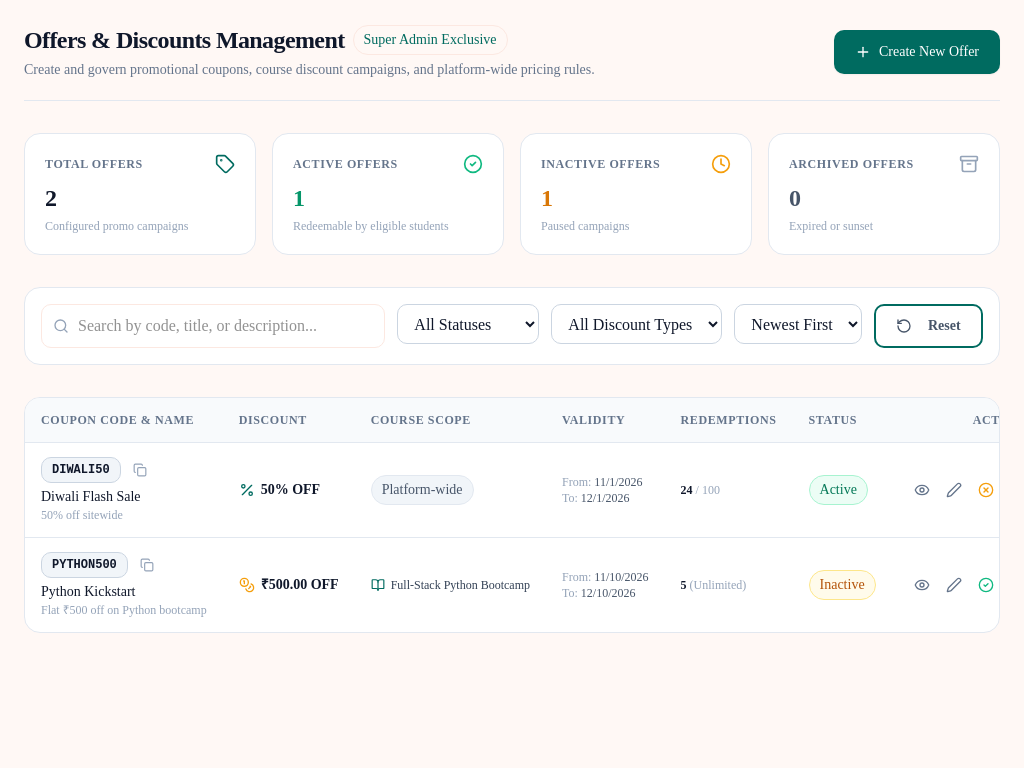
Test: Offers & Discounts Governance Page (SA-05.1) › opens edit modal on clicking edit action button
The image size is (1024, 768).
Check: the text "DIWALI50" is shown, box [41, 457, 121, 483]
Click the button titled "Edit Offer" in the row of "Diwali Flash Sale" at (954, 490), box [940, 476, 968, 504]
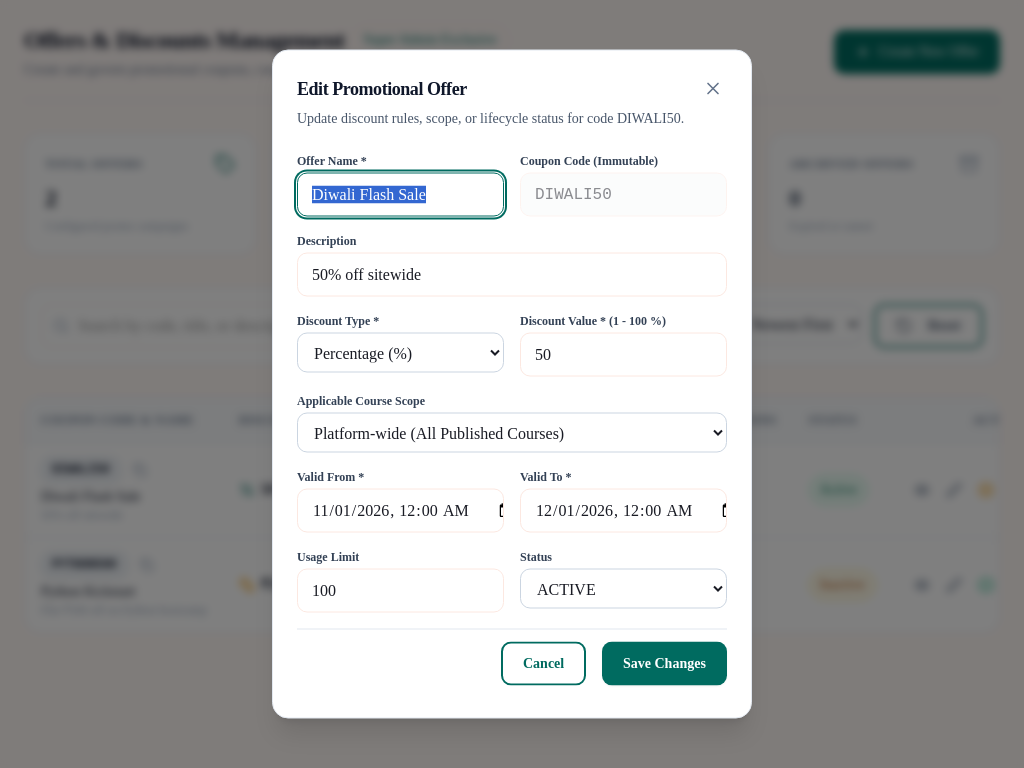
Check: the heading "Edit Promotional Offer" is shown, box [297, 78, 467, 98]
Check: the field showing "Diwali Flash Sale" below "Offer Name *" is shown, box [297, 172, 504, 216]
